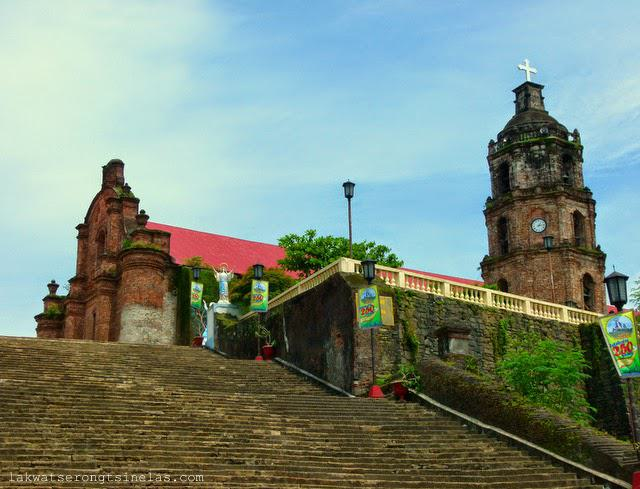Environmental Damage: (116, 234, 165, 253), (44, 301, 64, 321)
Sta. Maria Church: (34, 153, 184, 350)
Unfinished Paint: (115, 291, 185, 346)
